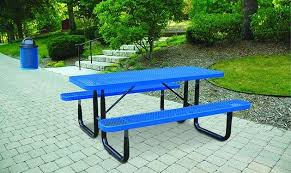obstacle: (51, 64, 249, 157)
